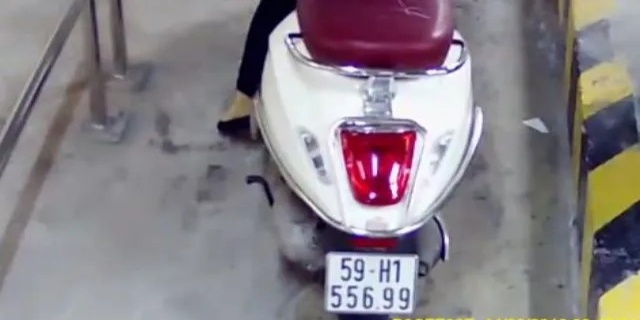bien_so: (327, 249, 415, 315)
